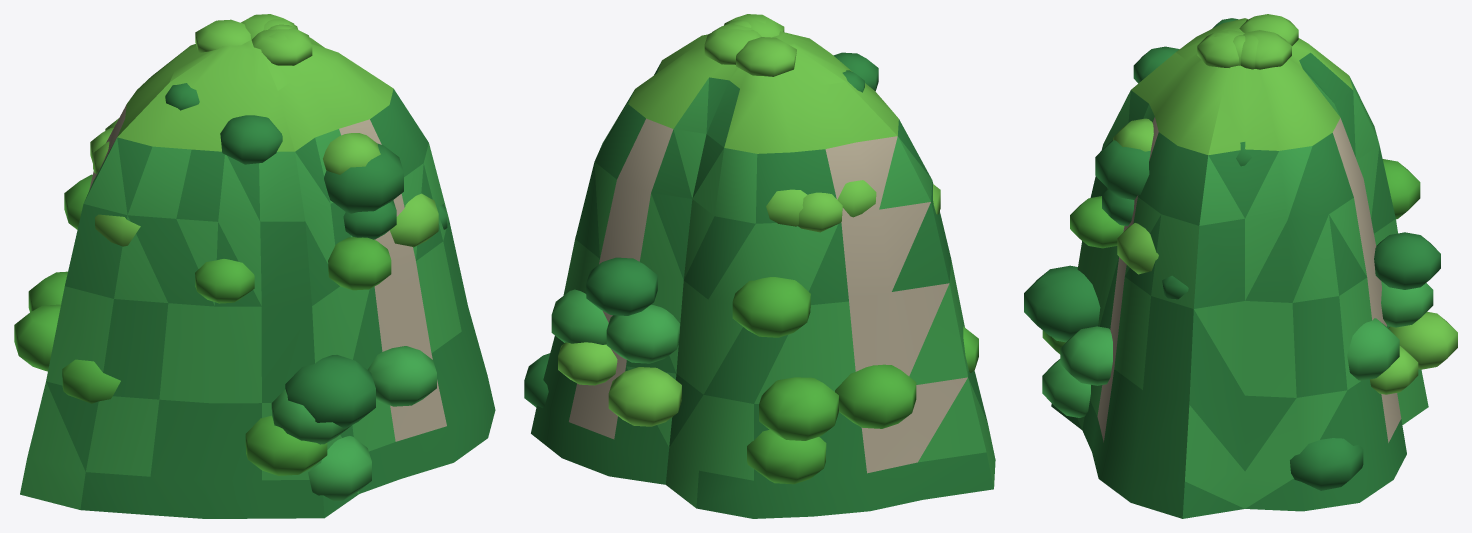
File: CerroJungla.fbx
The picture shows the model from 3 angles, left to right: view 1: azimuth 30°, elevation 25°; view 2: azimuth 150°, elevation 25°; view 3: azimuth 270°, elevation 25°; orthographic projection. The views are drawn at different scales.
Parts seen in each view (by area): view 1: CerroJungla; view 2: CerroJungla; view 3: CerroJungla.
Boxes of the visible parts, x1=… form: CerroJungla: x1=14, y1=14, x2=495, y2=518; CerroJungla: x1=524, y1=14, x2=995, y2=518; CerroJungla: x1=1024, y1=14, x2=1457, y2=518.
Size of the model in its own units: 143 by 126 by 126.
Materials: 1 (1 with a texture image).
